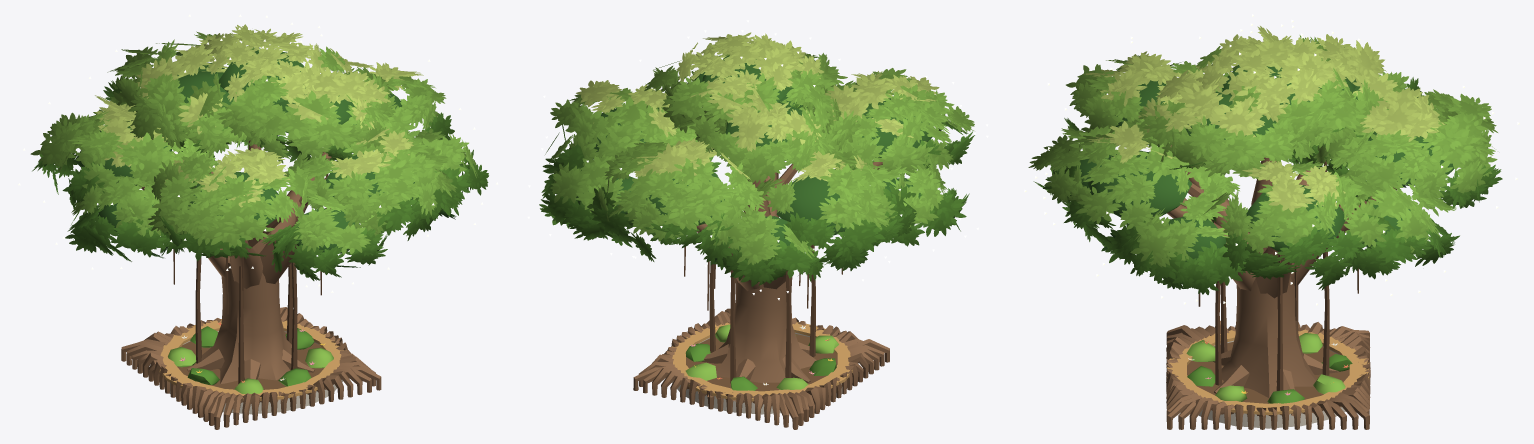
The model's file is tree_banyan.glb.
The picture shows the model from 3 angles, left to right: view 1: azimuth 30°, elevation 25°; view 2: azimuth 150°, elevation 25°; view 3: azimuth 270°, elevation 25°; orthographic projection. The views are drawn at different scales.
Parts seen in each view (by area): view 1: canopy, body; view 2: canopy, body; view 3: canopy, body.
Part boxes in pixels (<box>): canopy: <box>30,24,488,280</box>; body: <box>121,140,381,429</box>; canopy: <box>539,32,974,286</box>; body: <box>633,160,889,429</box>; canopy: <box>1028,26,1502,294</box>; body: <box>1166,145,1396,429</box>.
Bounding box in the file's own units: 12.65 × 9.88 × 12.53.
4 materials, 1 textured.
